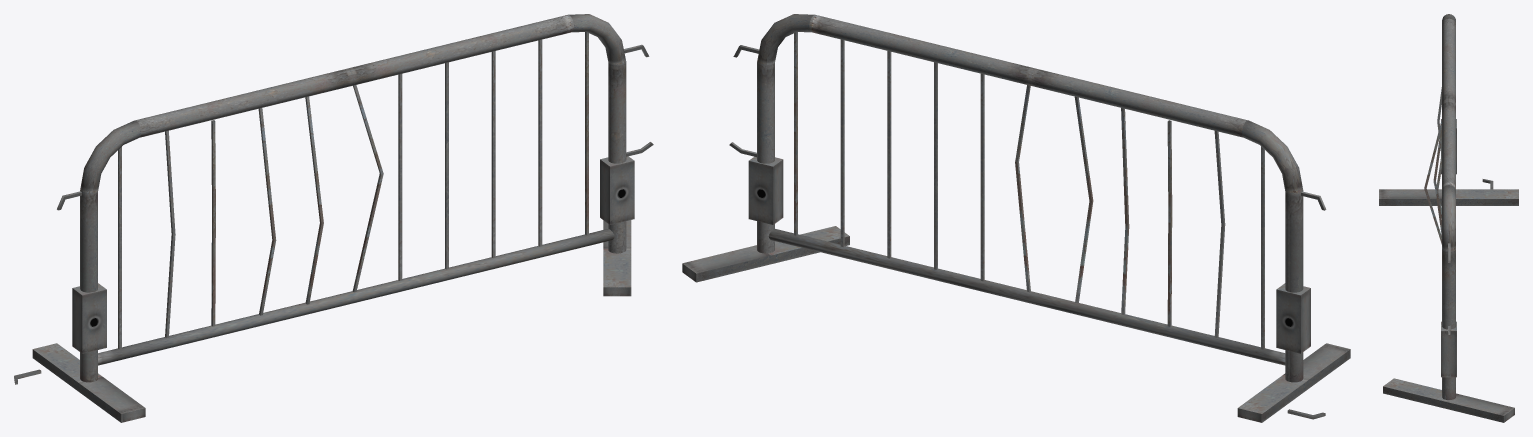
Rendered from MetalBarricadeDestroyed.fbx.
3 renders of one model, left to right at view 1: azimuth 30°, elevation 25°; view 2: azimuth 150°, elevation 25°; view 3: azimuth 270°, elevation 25°, orthographic. The views are drawn at different scales.
Parts seen in each view (by area): view 1: MetalBarricadeDestroyed; view 2: MetalBarricadeDestroyed; view 3: MetalBarricadeDestroyed.
Boxes of the visible parts, x1=… form: MetalBarricadeDestroyed: x1=14, y1=14, x2=653, y2=422; MetalBarricadeDestroyed: x1=682, y1=14, x2=1350, y2=422; MetalBarricadeDestroyed: x1=1379, y1=14, x2=1518, y2=422.
Bounding box in the file's own units: 135 × 52.15 × 32.89.
